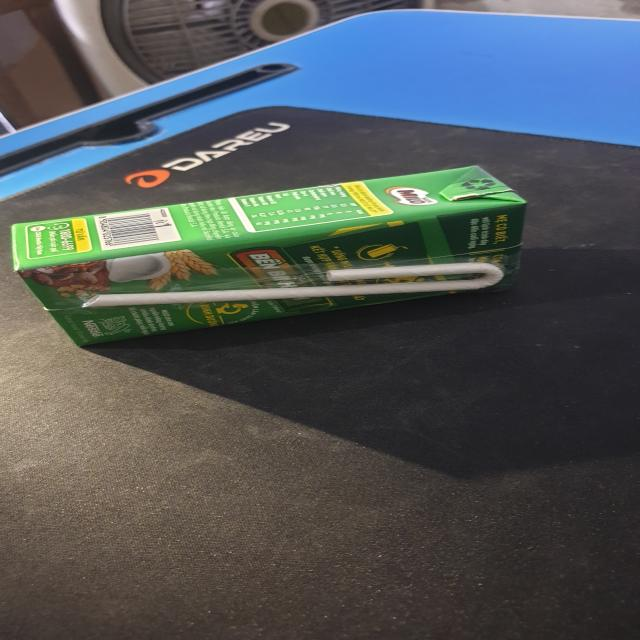Milo: (15, 163, 526, 353)
